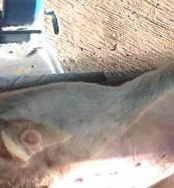text: (13, 118, 51, 159)
